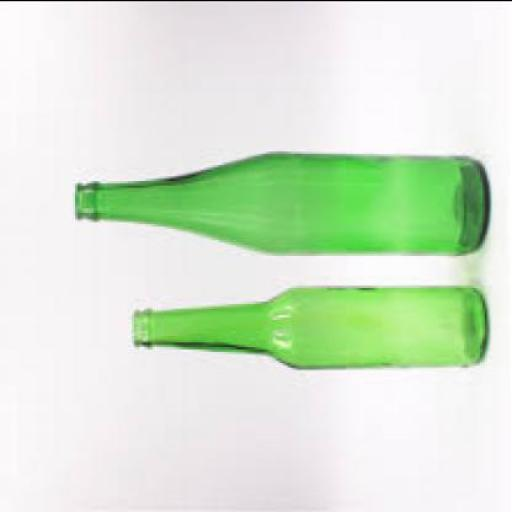glass: (73, 155, 487, 259), (130, 287, 484, 370)
